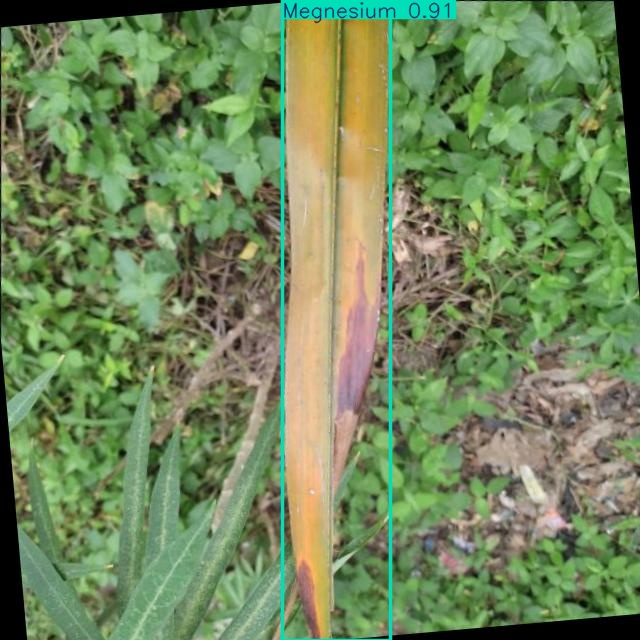Megnesium: (282, 0, 390, 640)
